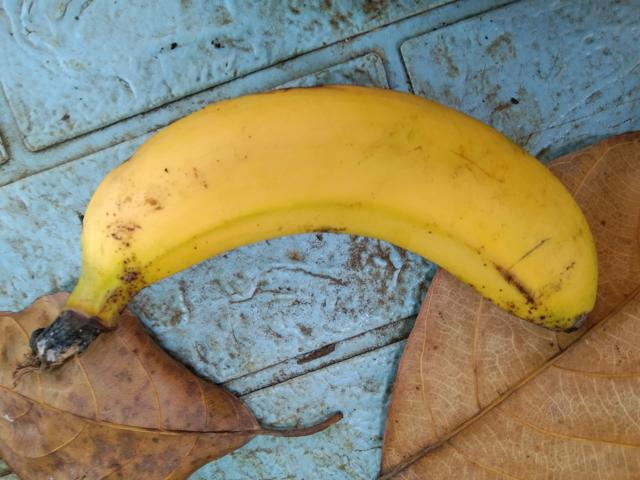freshripe: (55, 62, 595, 349)
